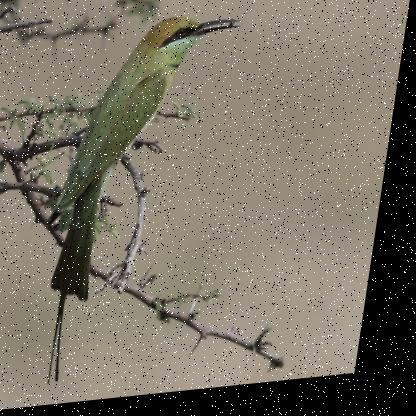Burung: (36, 14, 244, 389)
